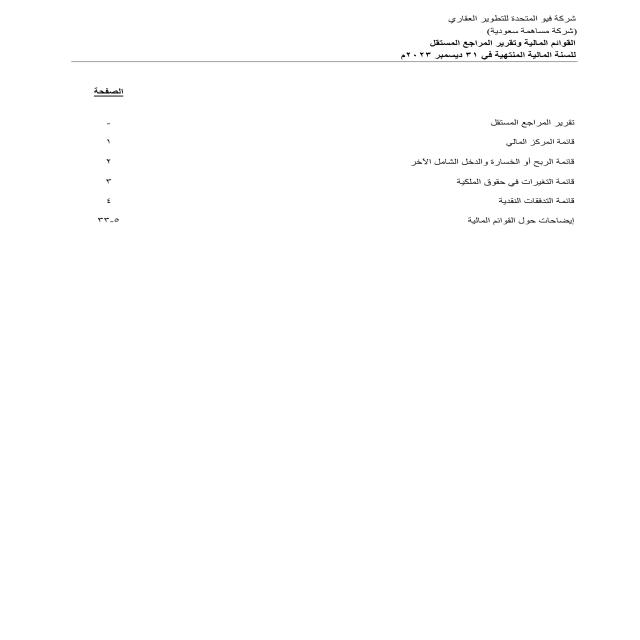other: (54, 66, 580, 262)
